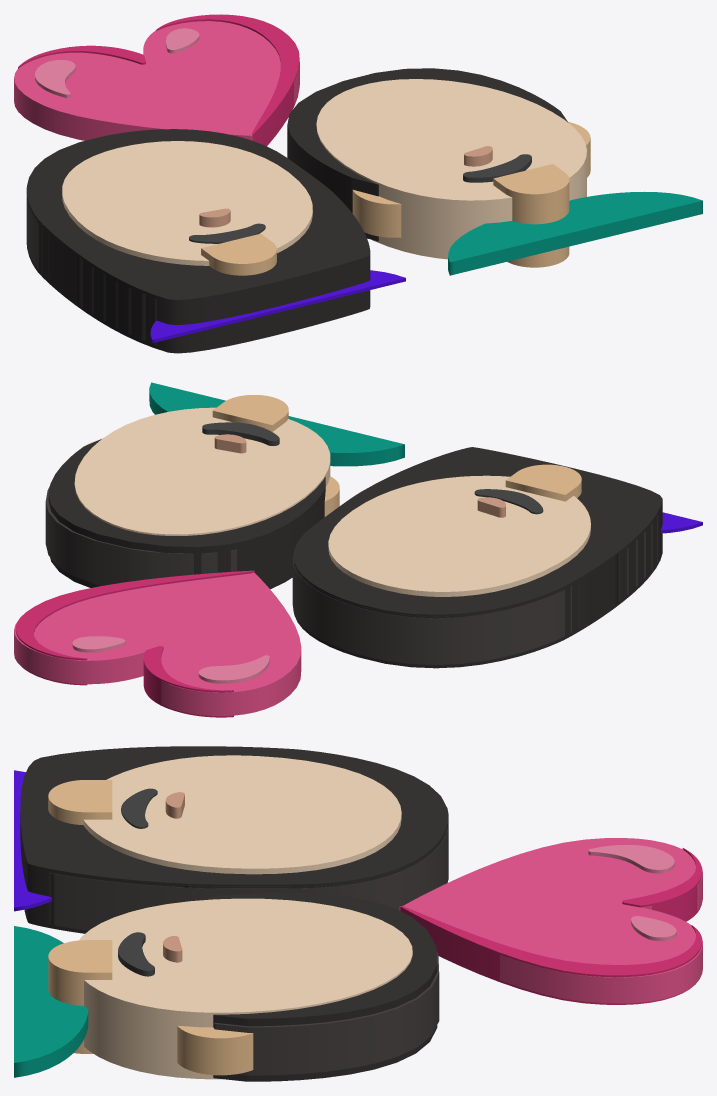
Rendered from emoji_u1f469_1f3fb_200d_2764_200d_1f468_1f3fb.glb.
The picture shows the model from 3 angles, top to bottom: view 1: azimuth 30°, elevation 25°; view 2: azimuth 150°, elevation 25°; view 3: azimuth 270°, elevation 25°; orthographic projection. The views are drawn at different scales.
Visible parts, largest first — view 1: emoji_u1f469_1f3fb_200d_2764_200d_1f468_1f3fb; view 2: emoji_u1f469_1f3fb_200d_2764_200d_1f468_1f3fb; view 3: emoji_u1f469_1f3fb_200d_2764_200d_1f468_1f3fb.
Part boxes in pixels (x1,y1,x2,y2): emoji_u1f469_1f3fb_200d_2764_200d_1f468_1f3fb: (14,14,702,353); emoji_u1f469_1f3fb_200d_2764_200d_1f468_1f3fb: (14,382,702,717); emoji_u1f469_1f3fb_200d_2764_200d_1f468_1f3fb: (14,746,702,1081).
Bounding box in the file's own units: 0.0346 × 0.005 × 0.0337.
